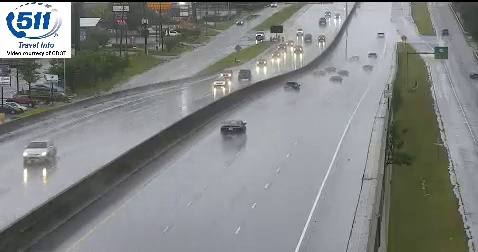car: (221, 119, 246, 137), (283, 81, 300, 93)
